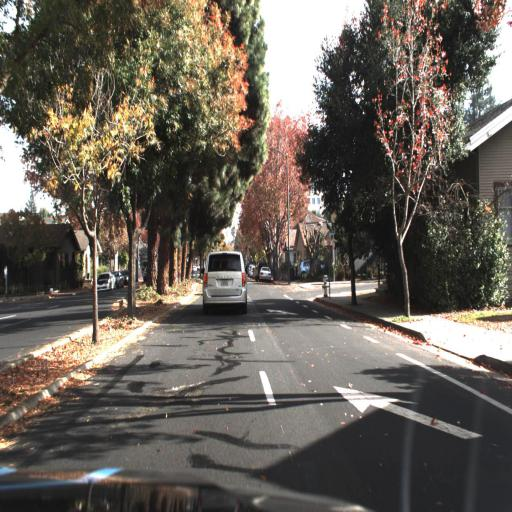car: (195, 245, 256, 317), (94, 271, 117, 293), (95, 270, 115, 293)
